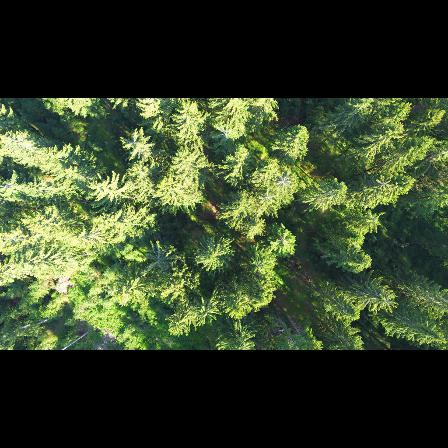Sick: (142, 240, 174, 277), (273, 173, 295, 190), (256, 189, 275, 206)
